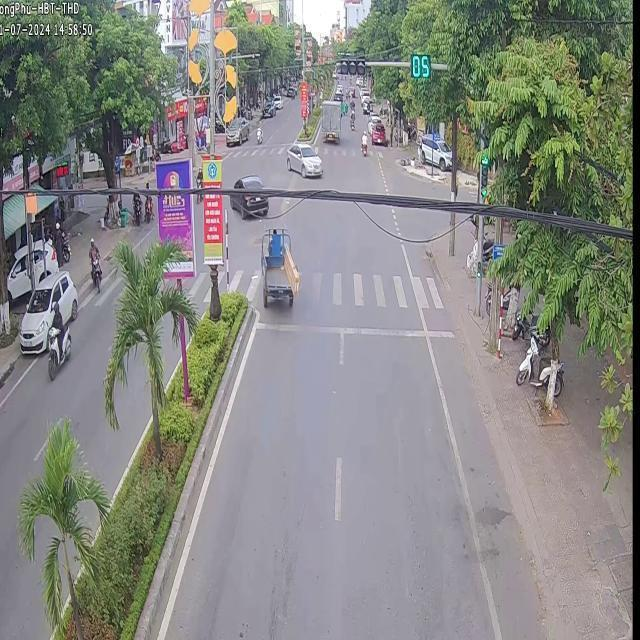car: (259, 227, 298, 305), (284, 140, 320, 176), (228, 191, 267, 217), (319, 98, 339, 141), (232, 174, 260, 189)
green_light: (478, 151, 488, 199), (338, 56, 364, 74)
stop_line: (254, 319, 453, 336)
